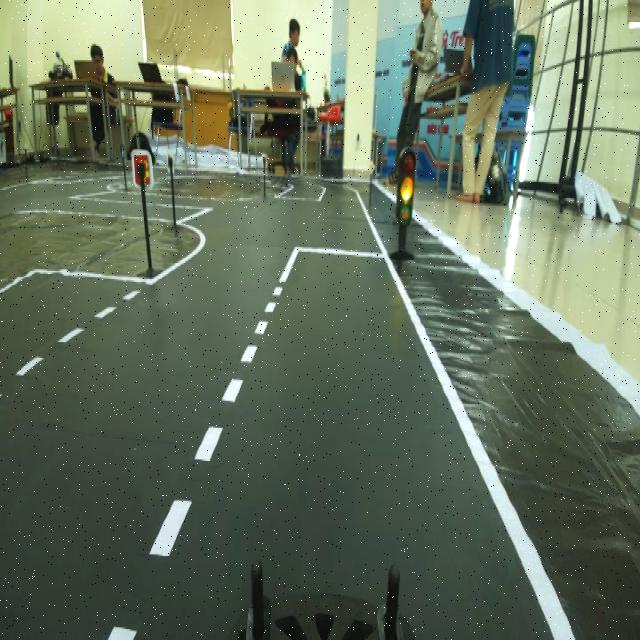trafficlight: (383, 136, 428, 277)
